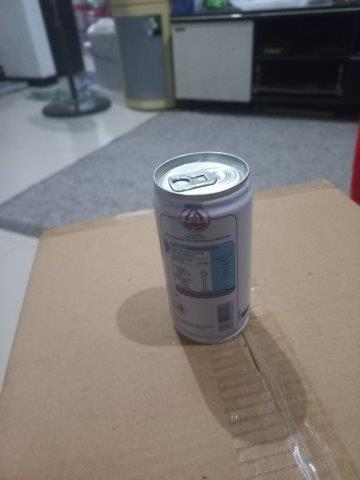kaleng: (150, 151, 251, 341)
kardus: (1, 178, 360, 480)
